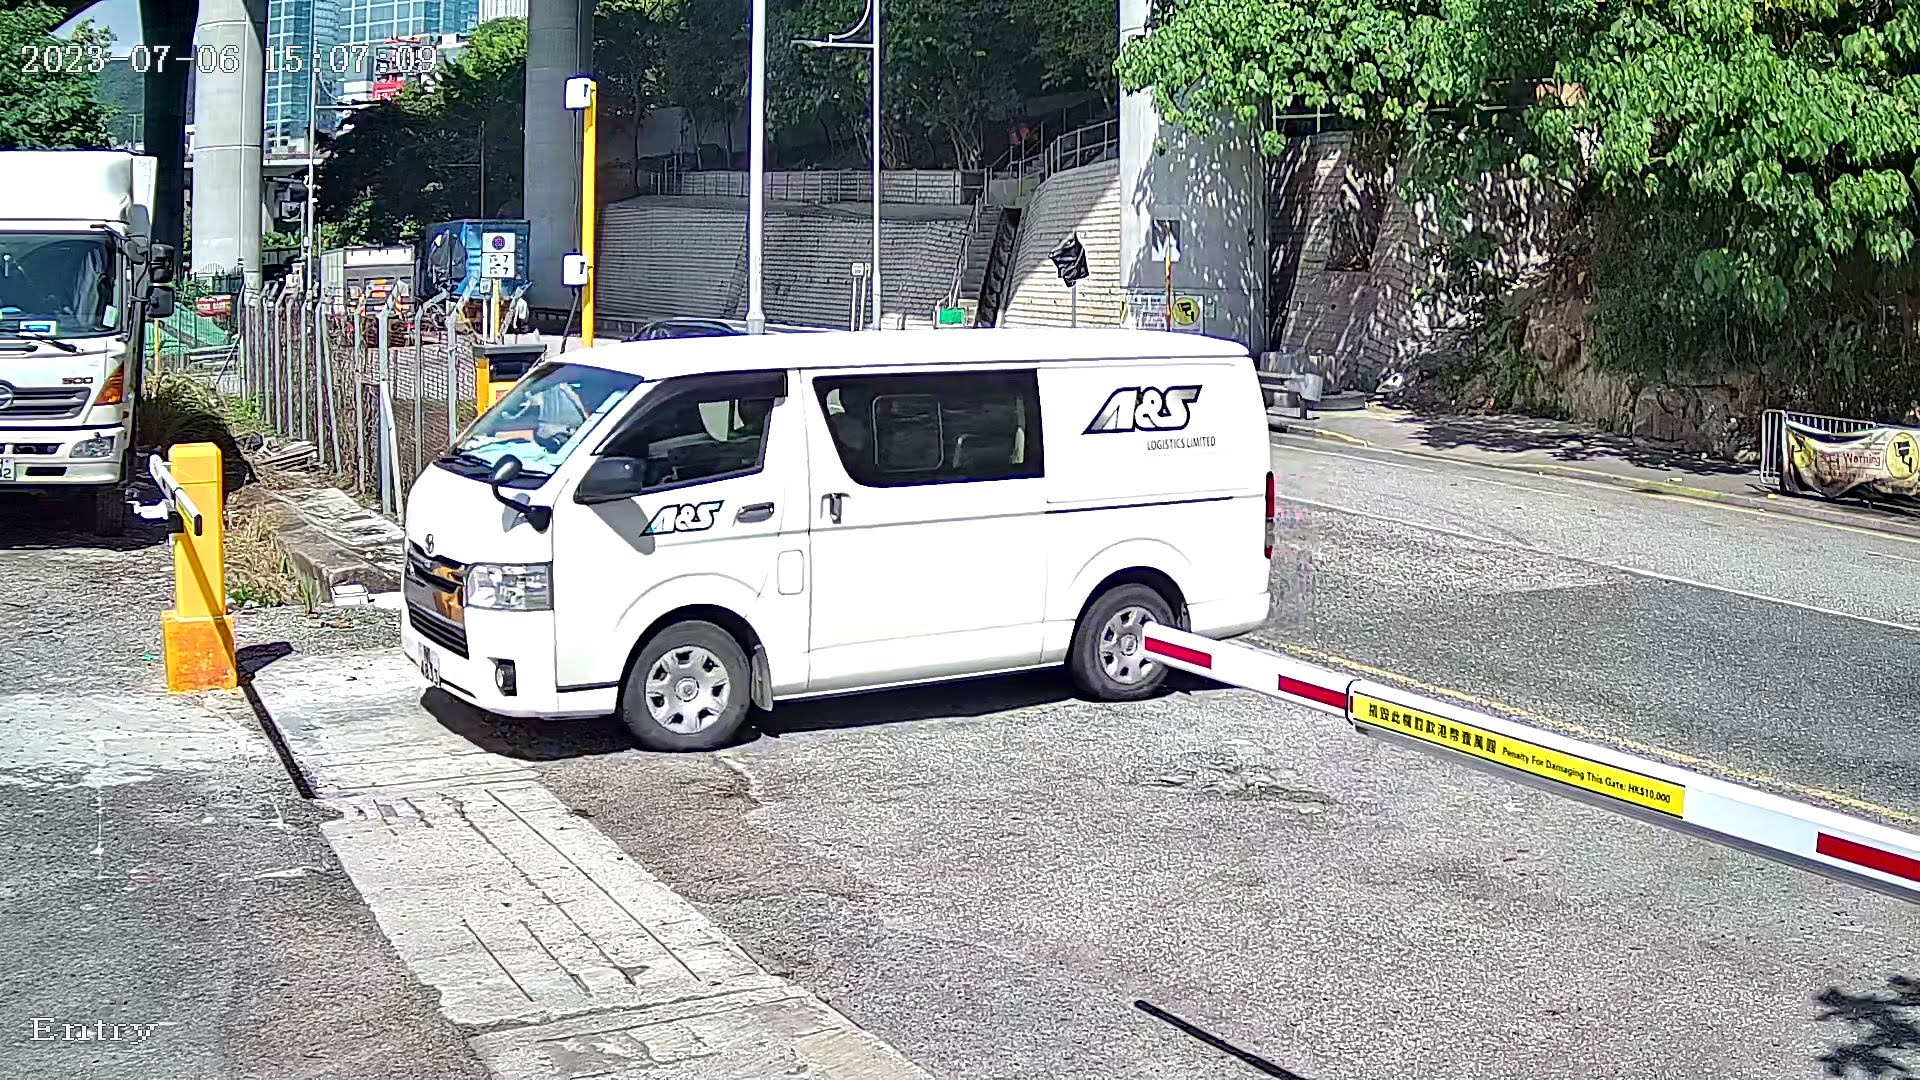privatecar: (371, 280, 1294, 793)
